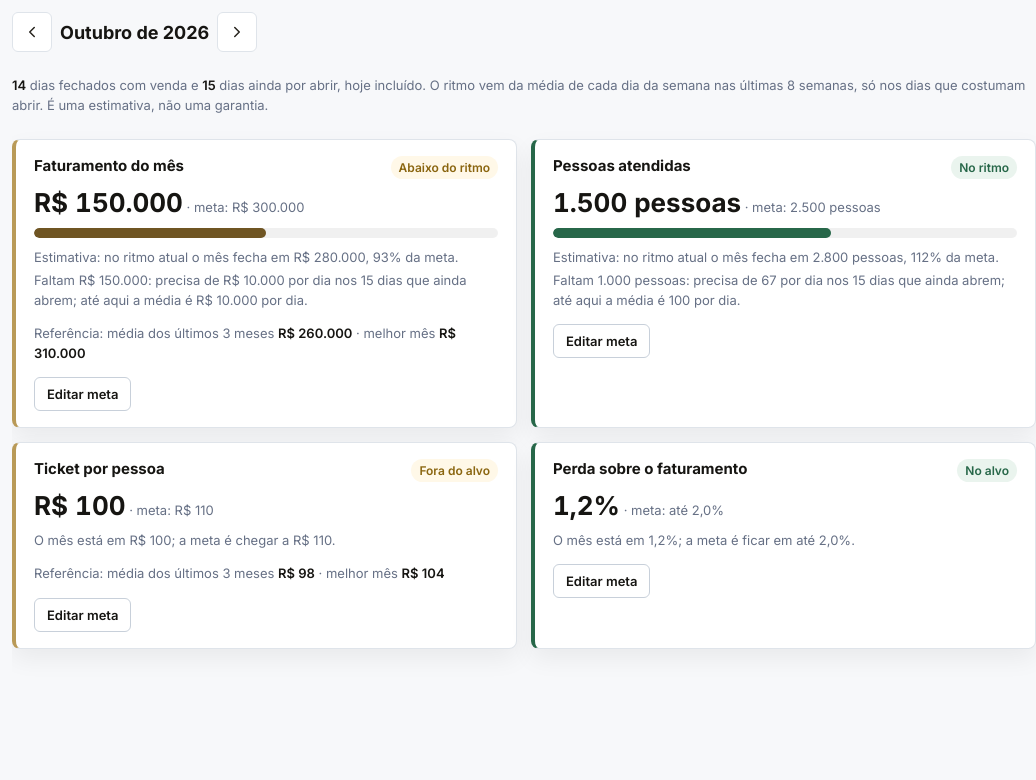
Test: MetasPanel (busca, mes e gravacao) › ao trocar de mes a navegacao continua na tela e o titulo ja mostra o mes novo enquanto carrega
Expected: the heading "outubro de 2026" is shown, [60,22,209,42]
What coordinates should you click on to do the following:
click the button named "Mês anterior"
I would click on:
 (32, 32)
Its box is [12,12,52,52].
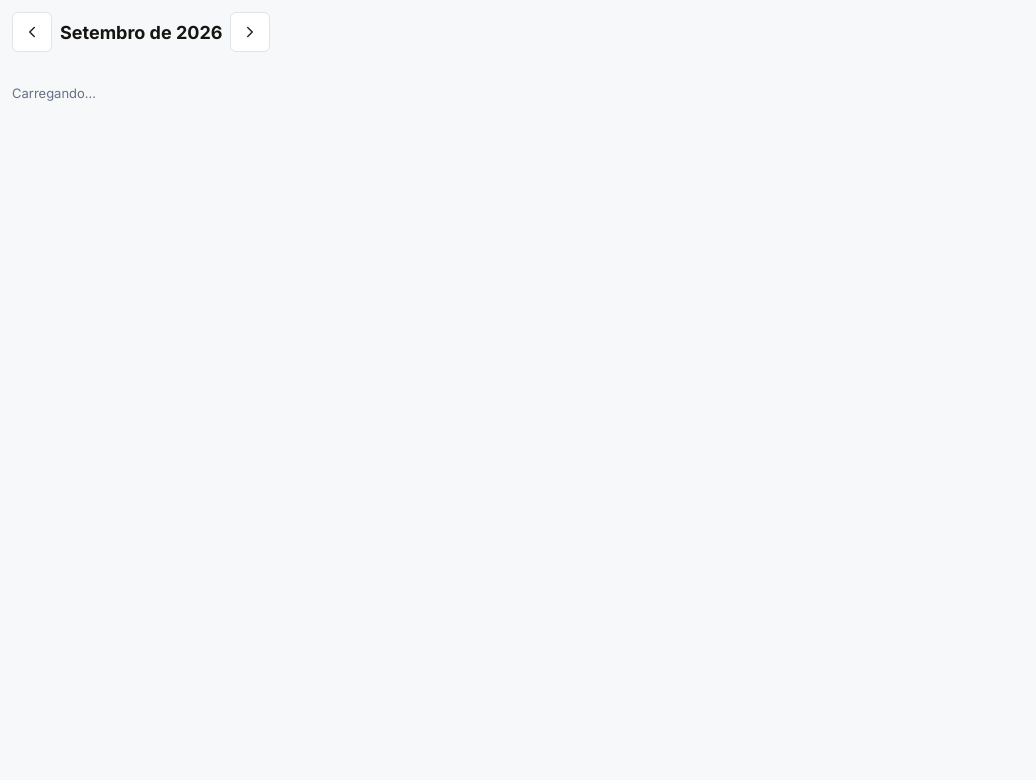
Result: the heading "setembro de 2026" is shown at [60,22,222,42]
Result: the message reads "Carregando…" at [12,85,96,101]
